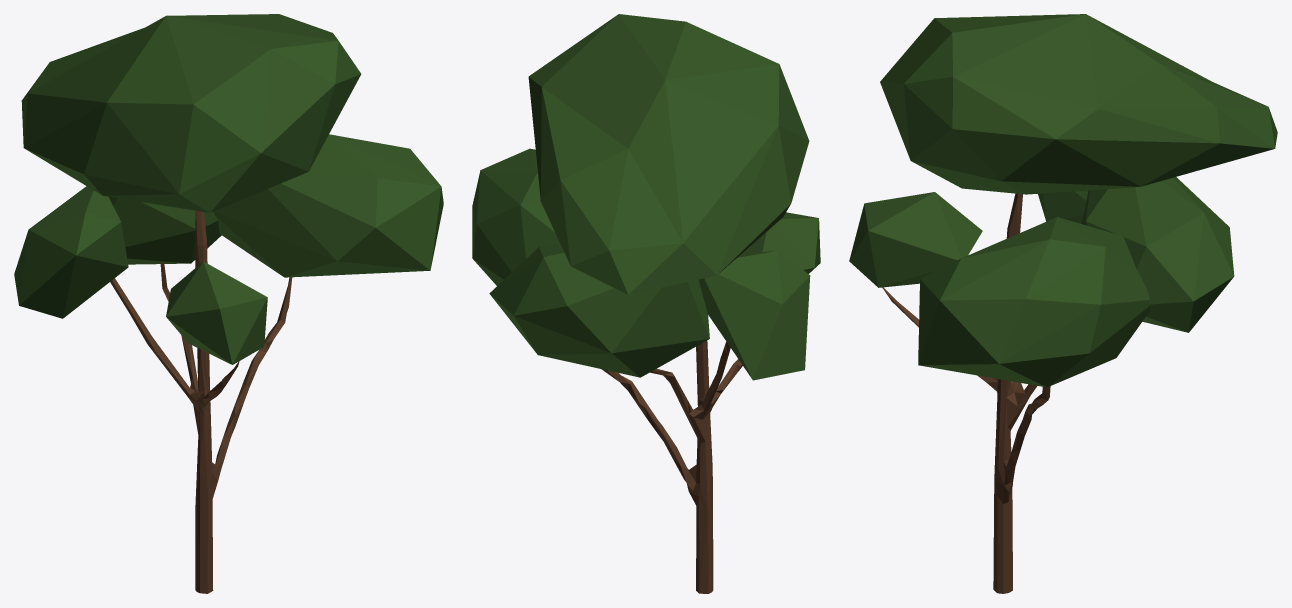
File: SM_tree_01.fbx
3 views of the same model, side by side, from view 1: azimuth 30°, elevation 25°; view 2: azimuth 150°, elevation 25°; view 3: azimuth 270°, elevation 25° (orthographic). The views are drawn at different scales.
Visible parts, largest first — view 1: Object121; view 2: Object121; view 3: Object121.
Part boxes in pixels (<box>): Object121: <box>14,14,443,593</box>; Object121: <box>472,14,820,593</box>; Object121: <box>849,14,1277,593</box>.
Size of the model in its own units: 198 by 272 by 182.
